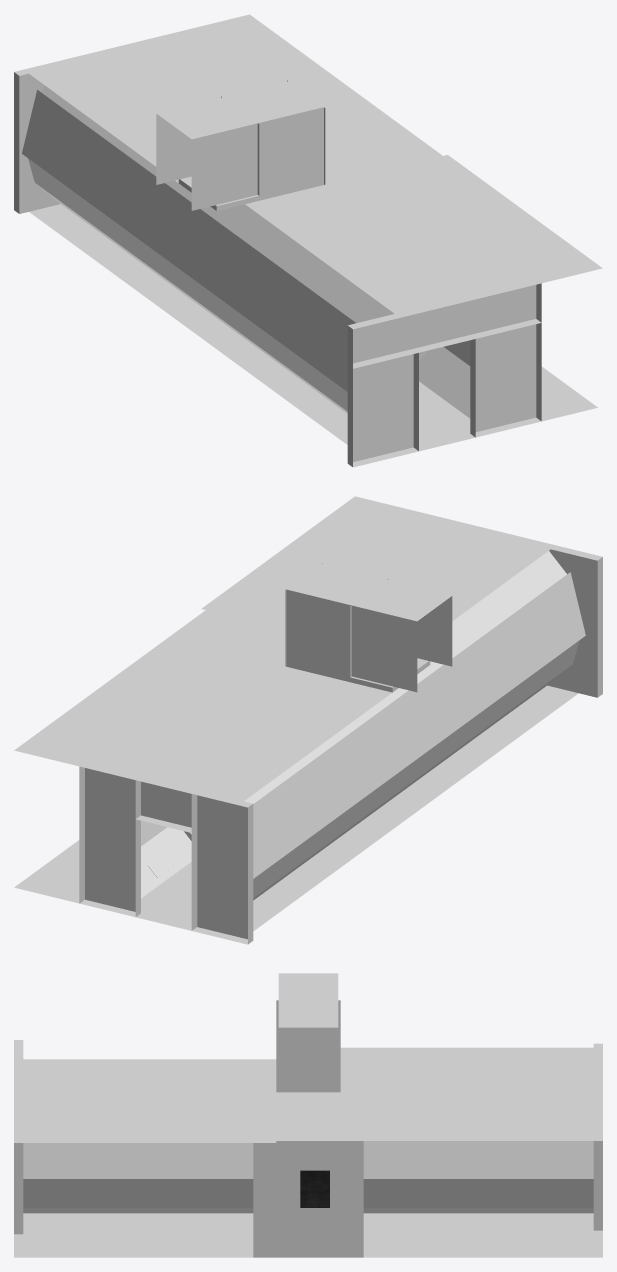
The model's file is room2_Hcz2.fbx.
3 views of the same model, one above another, from view 1: azimuth 30°, elevation 25°; view 2: azimuth 150°, elevation 25°; view 3: azimuth 270°, elevation 25° (orthographic). The views are drawn at different scales.
Parts seen in each view (by area): view 1: room2_Hcz2; view 2: room2_Hcz2; view 3: room2_Hcz2.
Part boxes in pixels (box(x1,y1,x2,y2)): room2_Hcz2: box(14, 14, 602, 467); room2_Hcz2: box(14, 496, 602, 944); room2_Hcz2: box(14, 973, 602, 1257).
Size of the model in its own units: 8.64 by 6.97 by 20.48.
